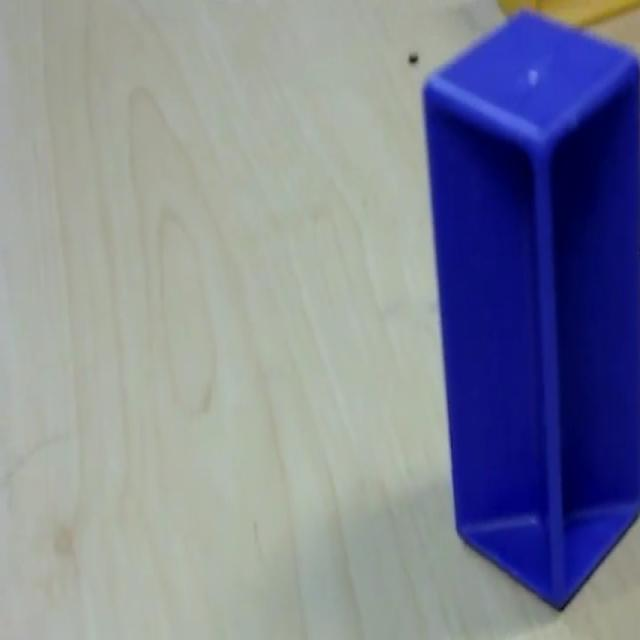blue_block: (420, 7, 638, 609)
